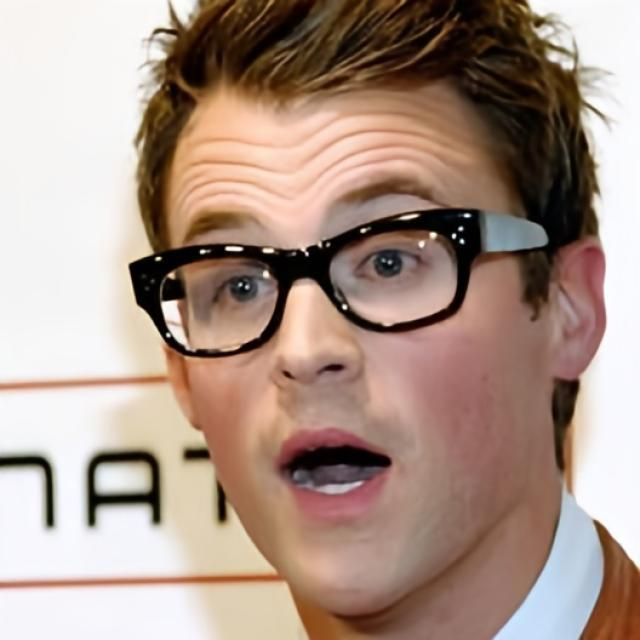surprise: (161, 76, 547, 618)
